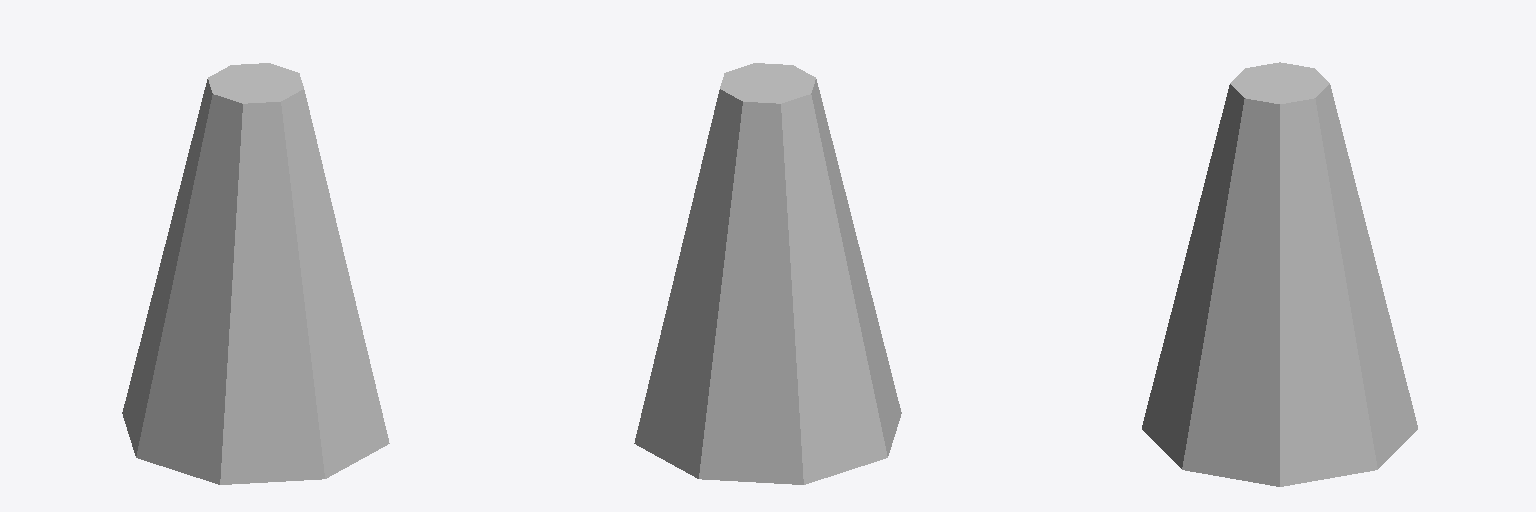
Rendered from bullet.obj.
3 renders of one model, left to right at view 1: azimuth 30°, elevation 25°; view 2: azimuth 150°, elevation 25°; view 3: azimuth 270°, elevation 25°, orthographic.
Visible parts, largest first — view 1: Cylinder; view 2: Cylinder; view 3: Cylinder.
Part boxes in pixels (x1,y1,x2,y2): Cylinder: (122, 63, 389, 484); Cylinder: (634, 63, 901, 484); Cylinder: (1142, 62, 1417, 486).
Bounding box in the file's own units: 0.4 × 0.55 × 0.4.